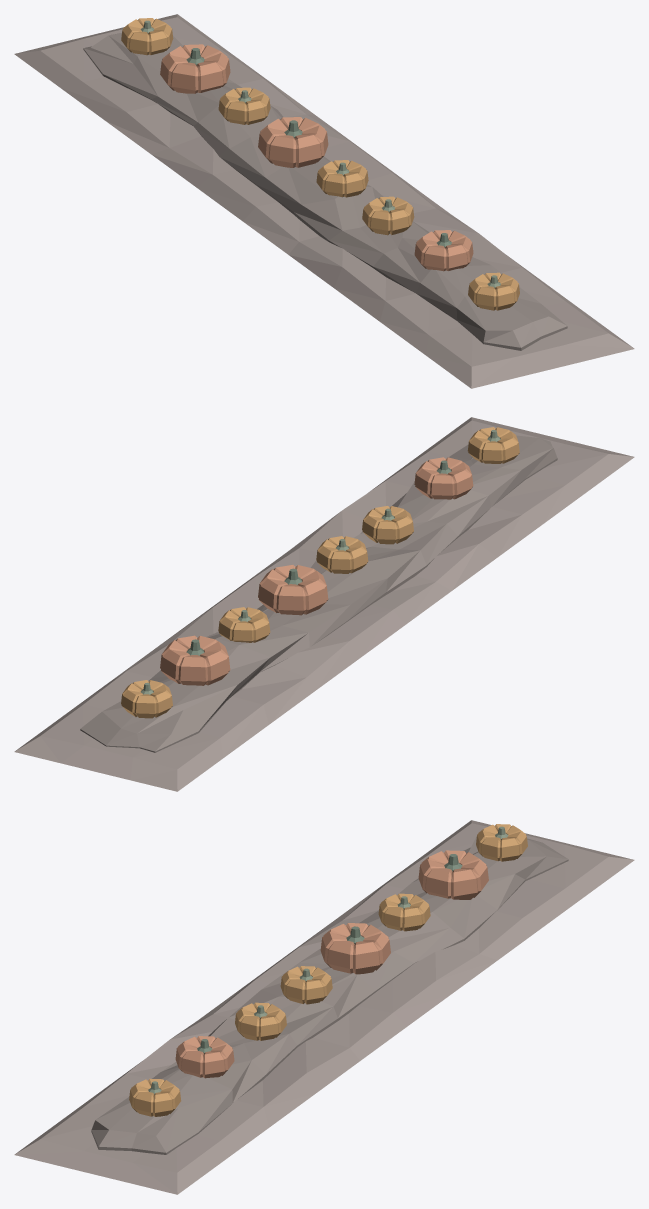
Rendered from fp_field_ready.glb.
3 renders of one model, top to bottom at view 1: azimuth 30°, elevation 25°; view 2: azimuth 150°, elevation 25°; view 3: azimuth 330°, elevation 25°, orthographic.
Bounding box in the file's own units: 0.3676 × 0.124 × 1.78.
